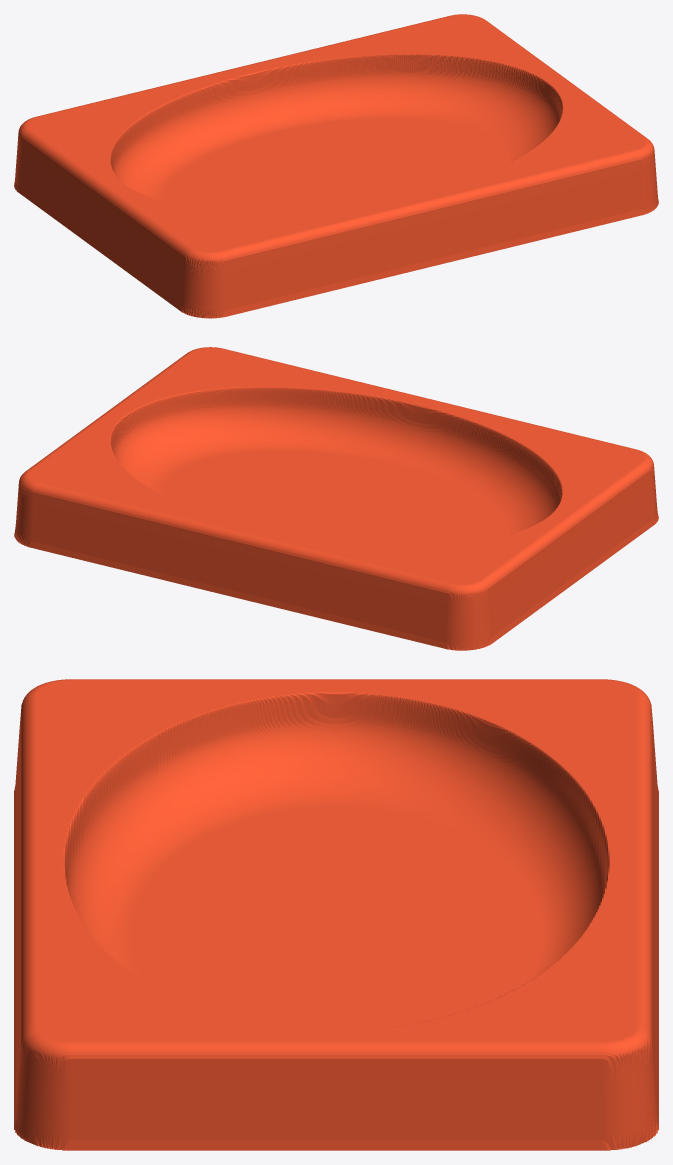
Rendered from mold.glb.
3 renders of one model, top to bottom at view 1: azimuth 30°, elevation 25°; view 2: azimuth 150°, elevation 25°; view 3: azimuth 270°, elevation 25°, orthographic. The views are drawn at different scales.
Parts seen in each view (by area): view 1: geometry_0; view 2: geometry_0; view 3: geometry_0.
Boxes of the visible parts, x1,y1,x2,y2 form: geometry_0: (14, 14, 658, 318); geometry_0: (14, 347, 658, 650); geometry_0: (14, 679, 658, 1150).
Size of the model in its own units: 0.1435 by 0.0175 by 0.1029.
